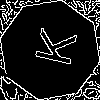K: (25, 25, 77, 68)
